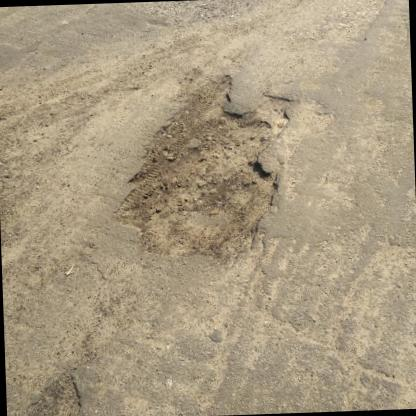pothole: (106, 68, 300, 266), (17, 369, 89, 416)
